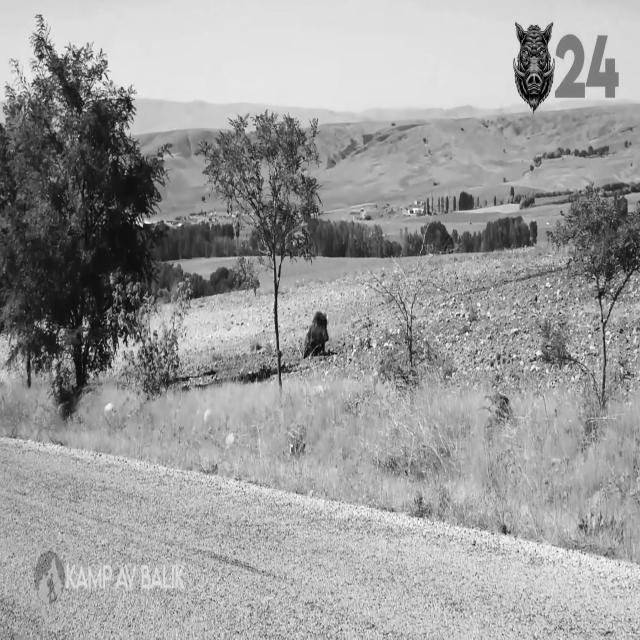boar: (514, 21, 556, 111), (303, 311, 328, 357)
